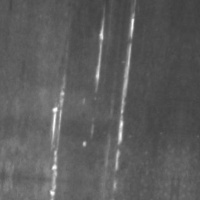scratches: (108, 9, 142, 174), (42, 84, 69, 181), (88, 10, 111, 96)
